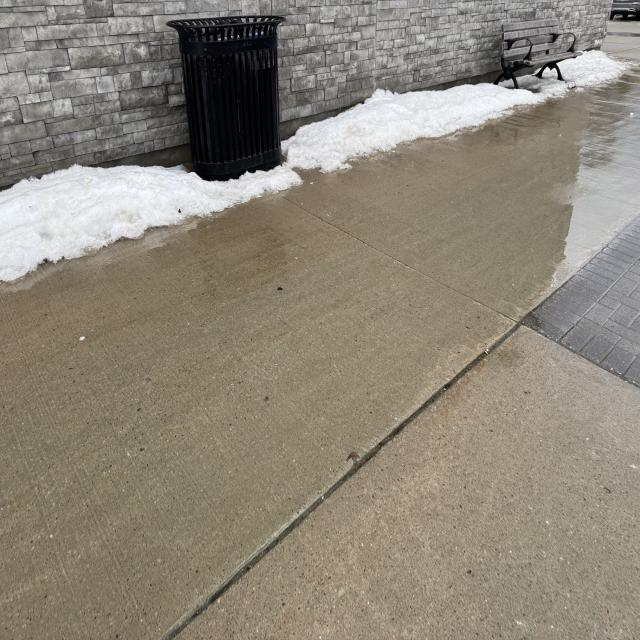Dustbin: (170, 13, 286, 184)
